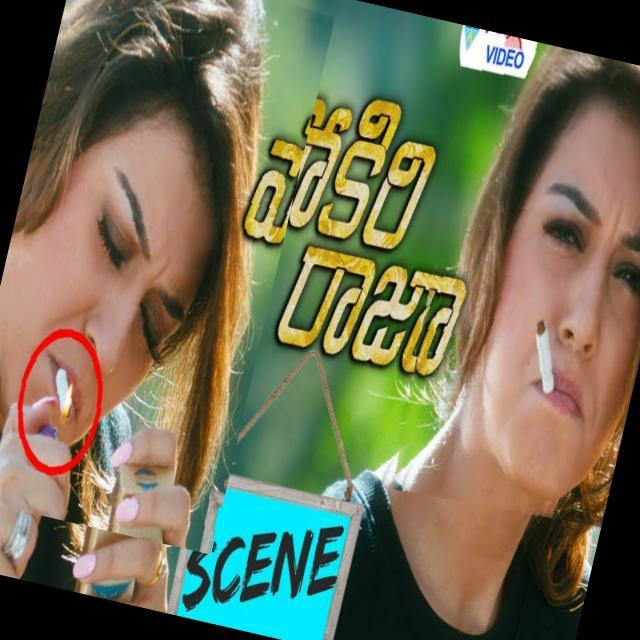cigarette: (492, 306, 578, 440), (10, 330, 91, 426)
